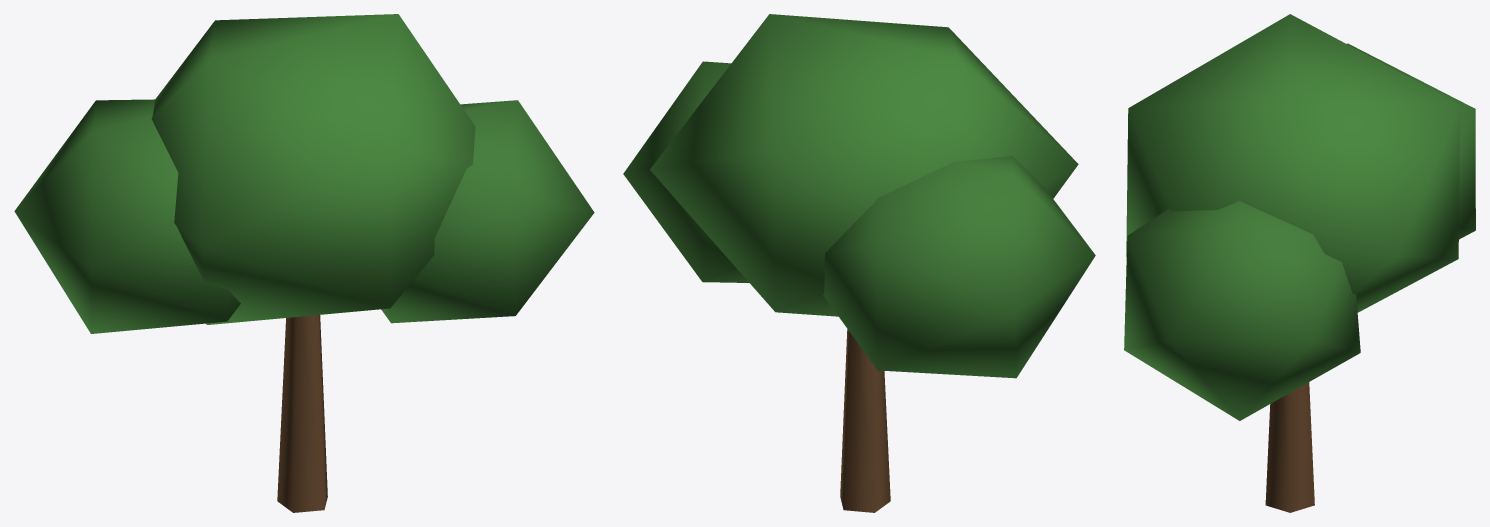
The model's file is Oak1.glb.
3 renders of one model, left to right at view 1: azimuth 30°, elevation 25°; view 2: azimuth 150°, elevation 25°; view 3: azimuth 270°, elevation 25°, orthographic. The views are drawn at different scales.
Visible parts, largest first — view 1: Oak1; view 2: Oak1; view 3: Oak1.
Boxes of the visible parts, x1,y1,x2,y2 form: Oak1: (14,14,594,512); Oak1: (623,14,1095,512); Oak1: (1124,14,1475,512).
Bounding box in the file's own units: 6.91 × 6.8 × 4.88.
